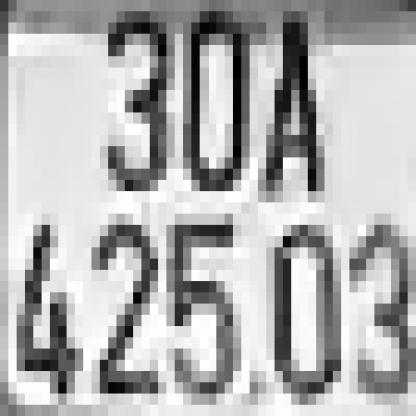0: (258, 214, 333, 394), (183, 11, 241, 191)
2: (92, 214, 158, 382)
3: (100, 11, 175, 191), (341, 214, 408, 382)
4: (17, 214, 83, 382)
5: (166, 214, 233, 382)
A: (258, 11, 316, 202)
